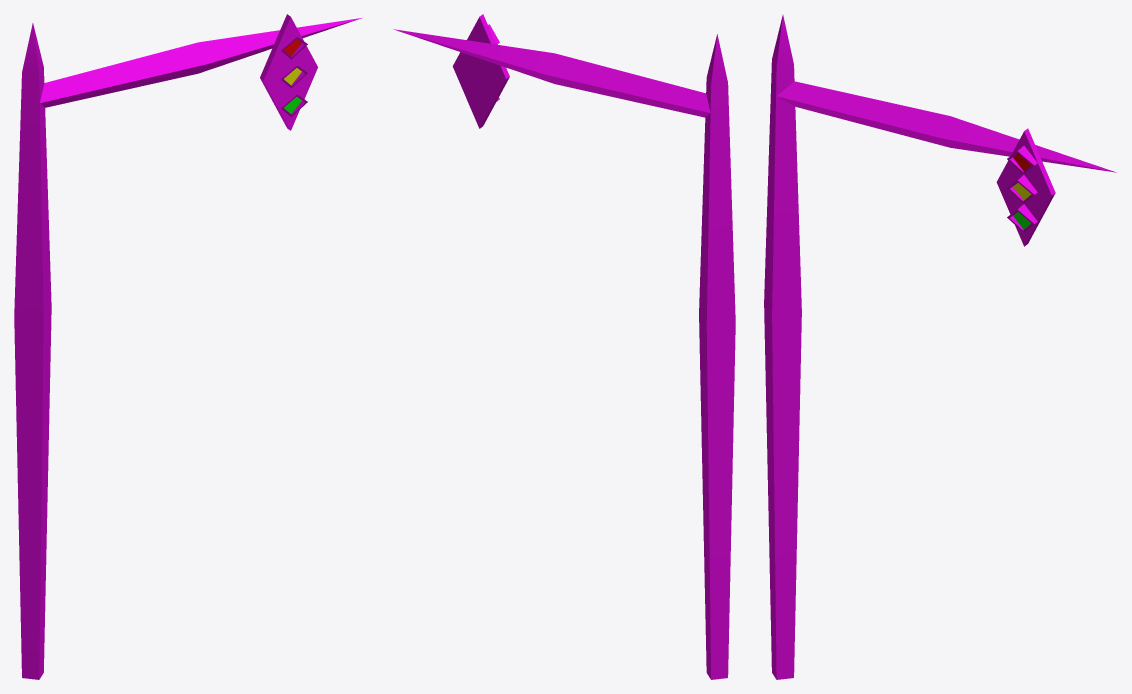
File: octotrafficlight.fbx
3 renders of one model, left to right at view 1: azimuth 30°, elevation 25°; view 2: azimuth 150°, elevation 25°; view 3: azimuth 330°, elevation 25°, orthographic. The views are drawn at different scales.
Parts seen in each view (by area): view 1: otca_stopLight_GEO1; view 2: otca_stopLight_GEO1; view 3: otca_stopLight_GEO1.
Boxes of the visible parts, x1=… form: otca_stopLight_GEO1: x1=14, y1=14, x2=361, y2=679; otca_stopLight_GEO1: x1=394, y1=14, x2=735, y2=679; otca_stopLight_GEO1: x1=764, y1=15, x2=1116, y2=679.
Bounding box in the file's own units: 63.39 × 113 × 8.54.
